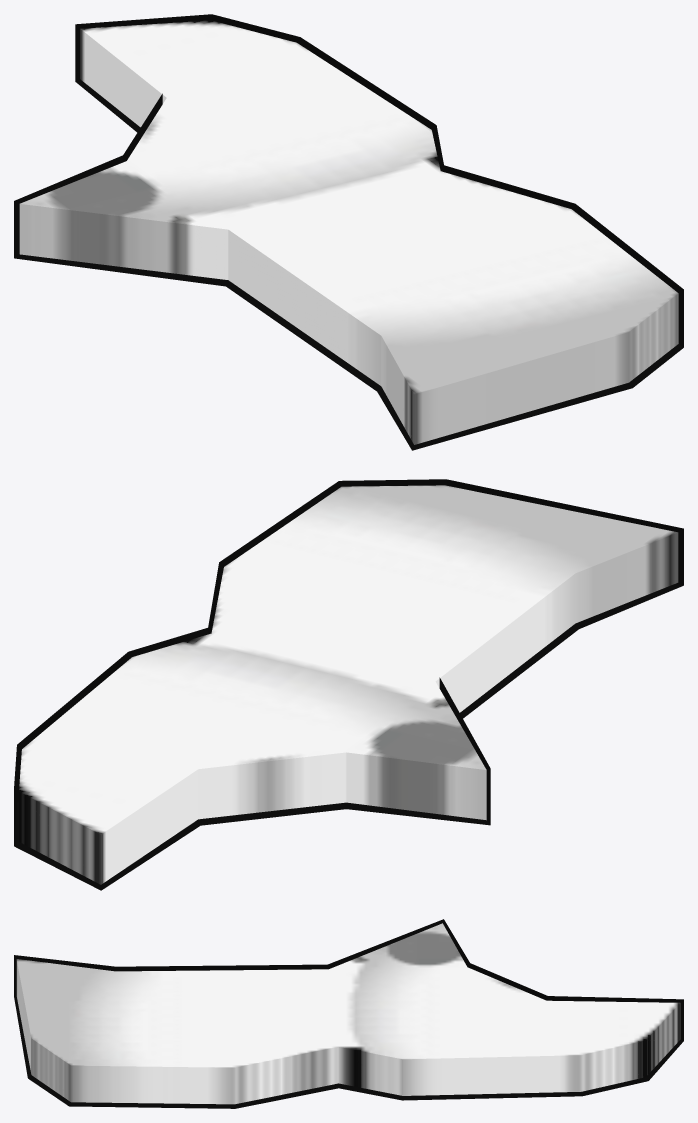
Rendered from Item_Apparel_Cape_Things_Pawn_Humanlike_Apparel_Cape_Cape_Female.glb.
The picture shows the model from 3 angles, top to bottom: view 1: azimuth 30°, elevation 25°; view 2: azimuth 150°, elevation 25°; view 3: azimuth 270°, elevation 25°; orthographic projection. The views are drawn at different scales.
Parts seen in each view (by area): view 1: Body, Outline; view 2: Body, Outline; view 3: Body, Outline.
Part boxes in pixels (<box>): Body: <box>19,20,678,444</box>; Outline: <box>14,14,683,450</box>; Body: <box>19,485,678,884</box>; Outline: <box>14,479,683,890</box>; Body: <box>16,923,680,1104</box>; Outline: <box>14,919,683,1108</box>.
Size of the model in its own units: 0.5511 by 0.0765 by 1.06.
2 materials, 1 textured.
